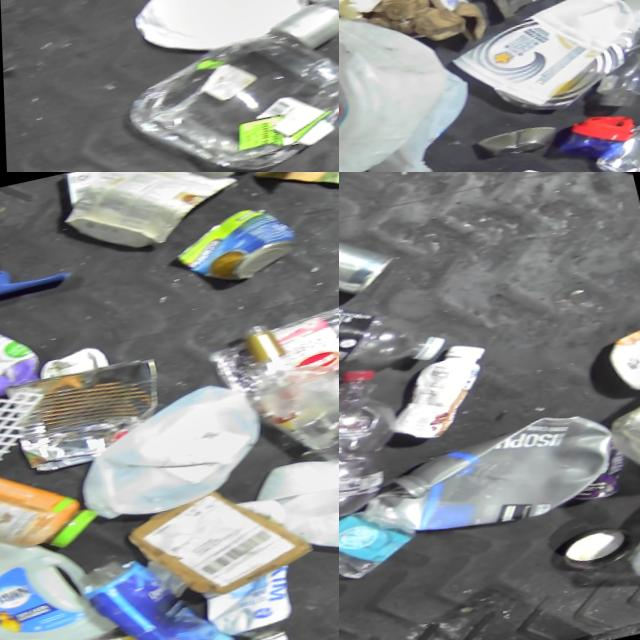can: (1, 353, 175, 475), (165, 199, 304, 294), (486, 42, 633, 122), (339, 216, 401, 310), (561, 443, 630, 503), (581, 103, 640, 172), (472, 121, 556, 162)
milk_jug: (60, 375, 274, 528), (339, 0, 467, 172), (53, 172, 245, 262), (342, 65, 485, 172), (244, 422, 339, 572), (0, 509, 108, 640), (116, 0, 339, 62), (600, 313, 640, 394)
non_white_jug: (350, 404, 628, 551), (0, 292, 42, 419)
plastic_bottle: (339, 267, 448, 397), (242, 343, 339, 476), (339, 363, 414, 529), (567, 0, 640, 113)
